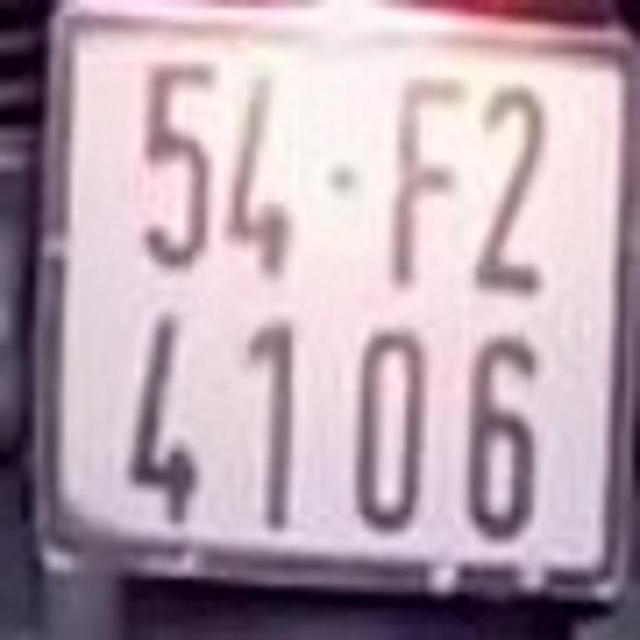0: (356, 317, 432, 530)
1: (245, 309, 301, 530)
2: (478, 72, 545, 295)
4: (126, 298, 204, 521), (222, 64, 300, 275)
5: (140, 55, 214, 275)
6: (457, 320, 538, 547)
F: (384, 65, 467, 289)
